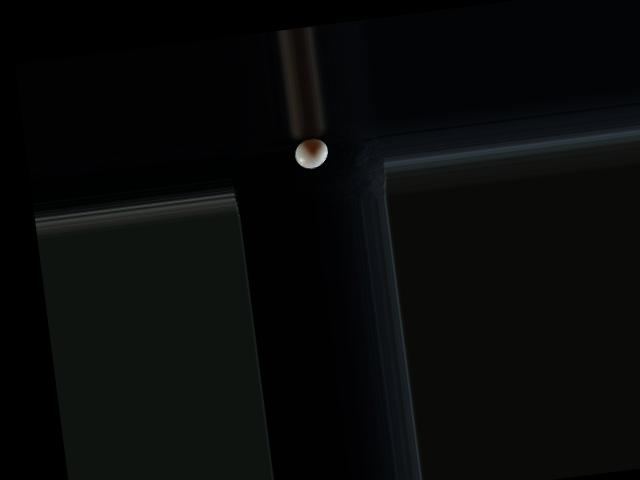egg: (294, 136, 330, 170)
